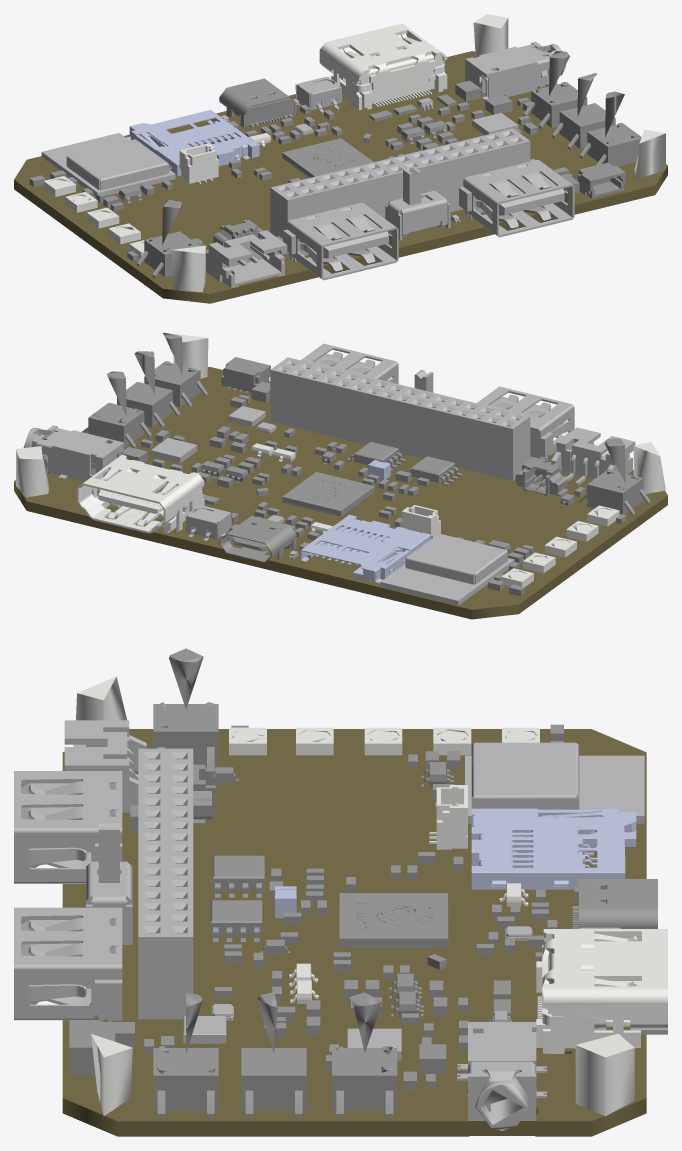
File: ada-6200.glb
The picture shows the model from 3 angles, top to bottom: view 1: azimuth 30°, elevation 25°; view 2: azimuth 150°, elevation 25°; view 3: azimuth 270°, elevation 25°; orthographic projection. The views are drawn at different scales.
Parts seen in each view (by area): view 1: 0.5833333333333334_0.5833333333333334_0.5833333333333334_0.8, 0.16666666666666666_0.16666666666666666_0.08333333333333333_, 0.3333333333333333_0.3333333333333333_0.3333333333333333_0, 0.9166666666666666_0.9166666666666666_0.9166666666666666_0.8, 0.5833333333333334_0.6666666666666666_0.8333333333333334_0; view 2: 0.5833333333333334_0.5833333333333334_0.5833333333333334_0.8, 0.16666666666666666_0.16666666666666666_0.08333333333333333_, 0.3333333333333333_0.3333333333333333_0.3333333333333333_0, 0.9166666666666666_0.9166666666666666_0.9166666666666666_0.8, 0.5833333333333334_0.6666666666666666_0.8333333333333334_0; view 3: 0.16666666666666666_0.16666666666666666_0.08333333333333333_, 0.5833333333333334_0.5833333333333334_0.5833333333333334_0.8, 0.3333333333333333_0.3333333333333333_0.3333333333333333_0, 0.9166666666666666_0.9166666666666666_0.9166666666666666_0.8, 0.5833333333333334_0.6666666666666666_0.8333333333333334_0.
Boxes of the visible parts, box(x1,y1,x2,y2) form: 0.5833333333333334_0.5833333333333334_0.5833333333333334_0.8: box(41, 41, 574, 288); 0.16666666666666666_0.16666666666666666_0.08333333333333333_: box(14, 51, 667, 303); 0.3333333333333333_0.3333333333333333_0.3333333333333333_0: box(29, 51, 641, 277); 0.9166666666666666_0.9166666666666666_0.9166666666666666_0.8: box(43, 14, 665, 301); 0.5833333333333334_0.6666666666666666_0.8333333333333334_0: box(126, 109, 259, 175); 0.5833333333333334_0.5833333333333334_0.5833333333333334_0.8: box(23, 343, 635, 605); 0.16666666666666666_0.16666666666666666_0.08333333333333333_: box(14, 367, 667, 619); 0.3333333333333333_0.3333333333333333_0.3333333333333333_0: box(83, 332, 650, 596); 0.9166666666666666_0.9166666666666666_0.9166666666666666_0.8: box(16, 333, 665, 586); 0.5833333333333334_0.6666666666666666_0.8333333333333334_0: box(300, 460, 430, 583); 0.16666666666666666_0.16666666666666666_0.08333333333333333_: box(62, 729, 646, 1136); 0.5833333333333334_0.5833333333333334_0.5833333333333334_0.8: box(14, 720, 644, 1130); 0.3333333333333333_0.3333333333333333_0.3333333333333333_0: box(69, 648, 657, 1117); 0.9166666666666666_0.9166666666666666_0.9166666666666666_0.8: box(76, 676, 667, 1116); 0.5833333333333334_0.6666666666666666_0.8333333333333334_0: box(275, 808, 636, 918).
Bounding box in the file's own units: 8.76 × 1.3 × 6.04.
